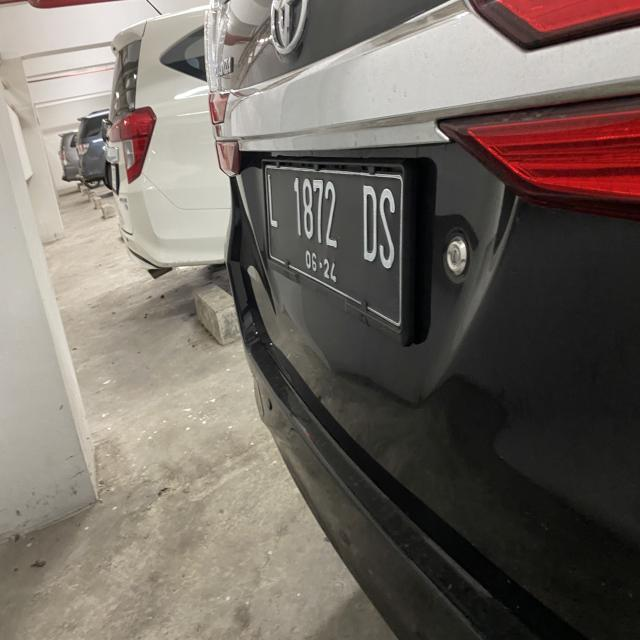1: (292, 172, 303, 246)
2: (326, 172, 338, 252)
7: (314, 170, 326, 243)
8: (302, 171, 314, 244)
D: (362, 180, 378, 268)
L: (267, 171, 280, 228)
S: (380, 183, 396, 274)
